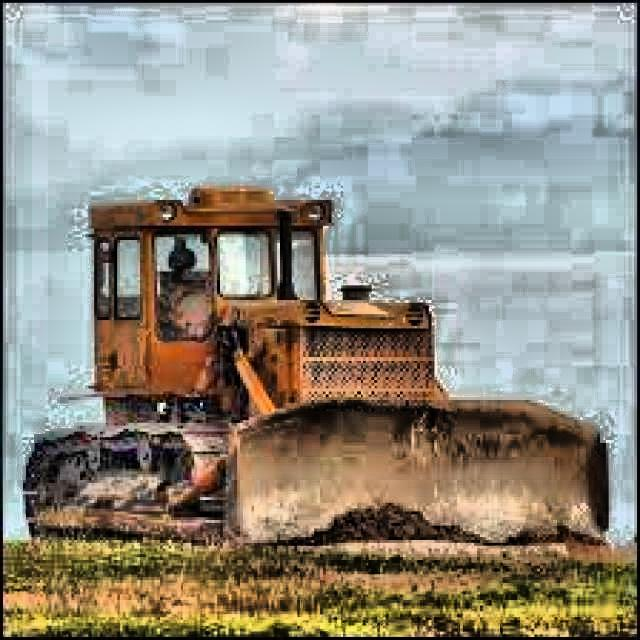bull_dozer/loader/grader: (19, 181, 614, 559)
person: (158, 243, 213, 335)
